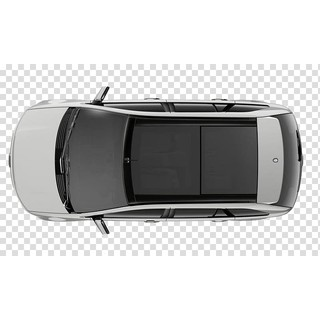car: (10, 84, 304, 240)
